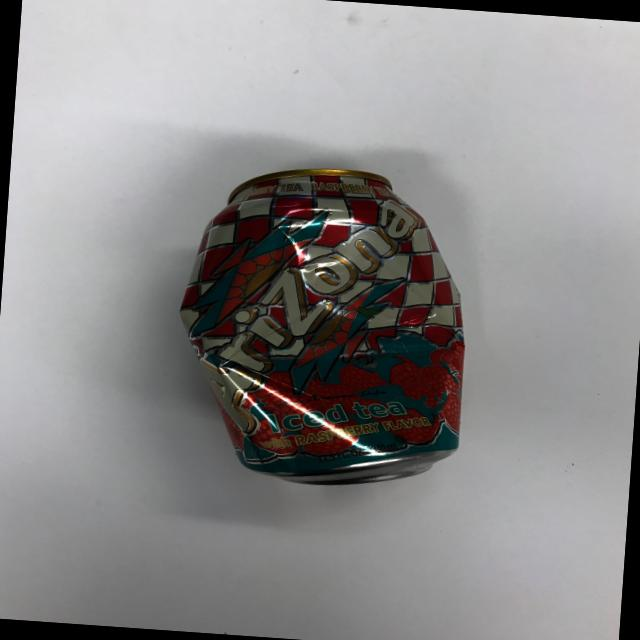Metal: (166, 145, 503, 518)
